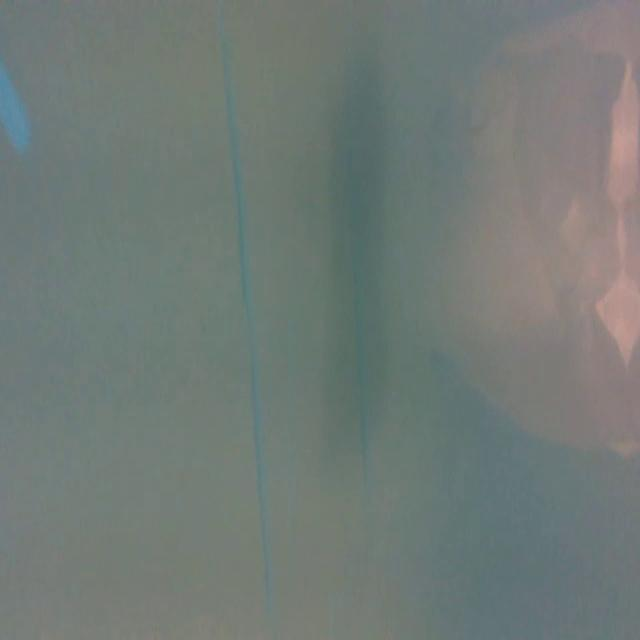plastic bags: (405, 0, 640, 429)
